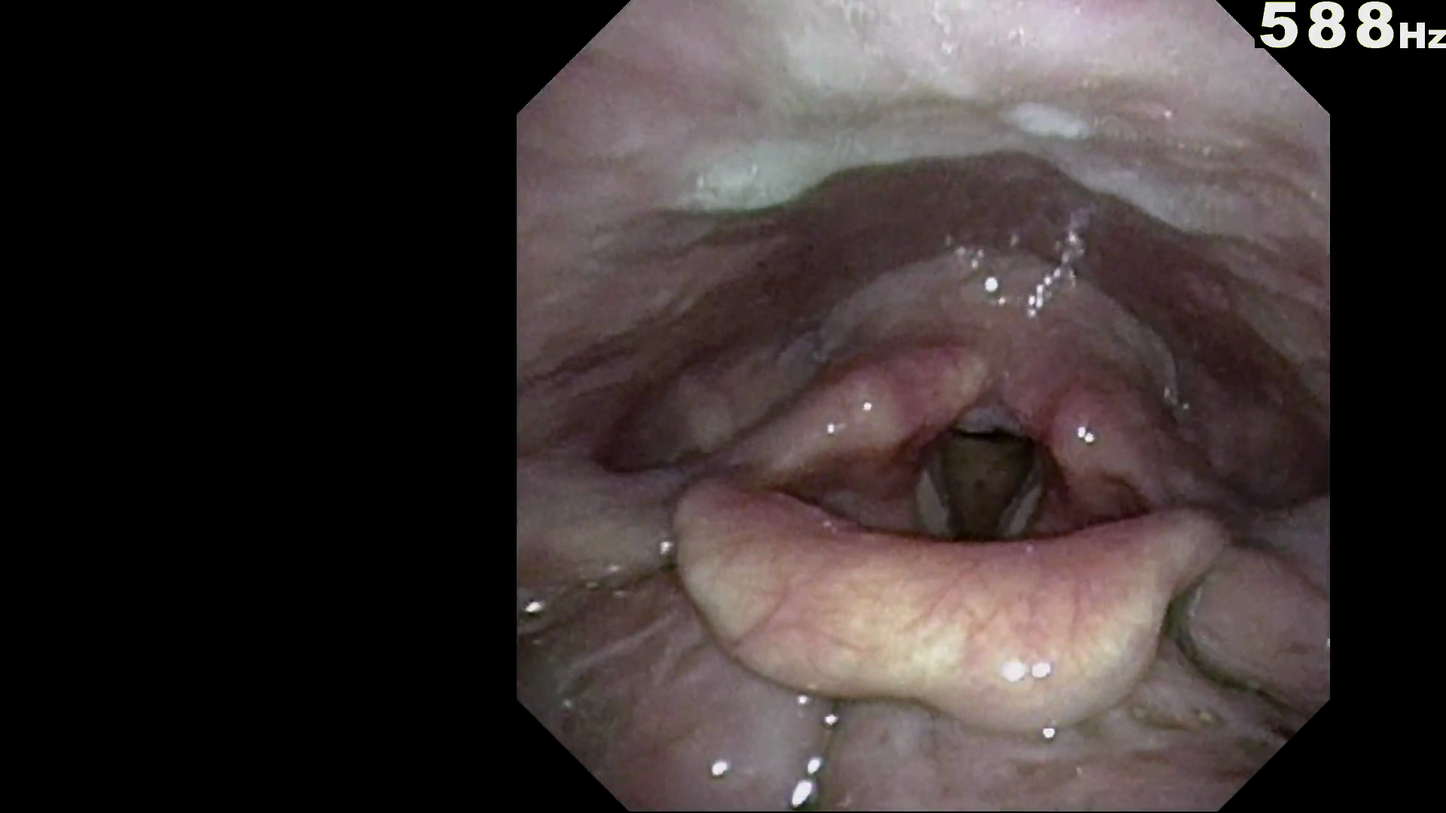epiglottis: (665, 516, 1209, 707)
trachea: (916, 419, 1044, 566)
